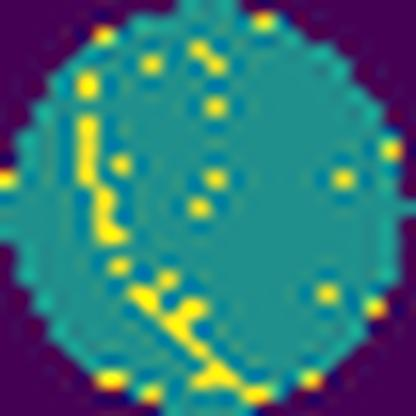Scratch: (124, 262, 277, 408), (73, 106, 131, 248)
